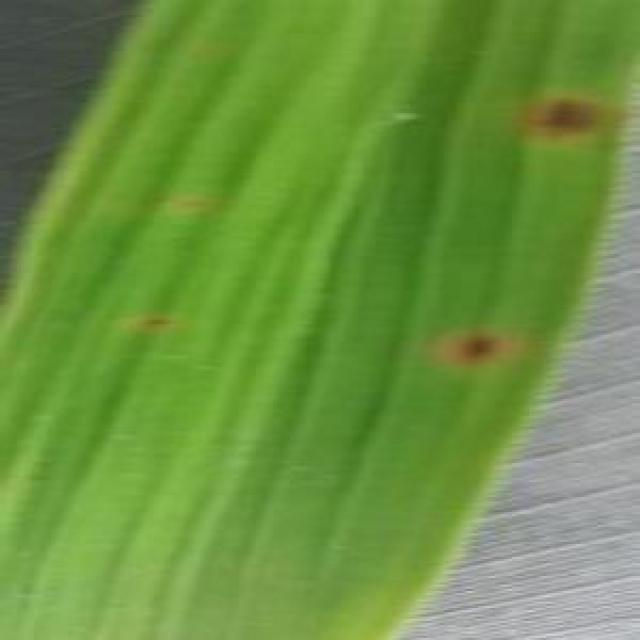Brown_Spot: (493, 94, 629, 149), (422, 328, 523, 370), (130, 311, 185, 339)
